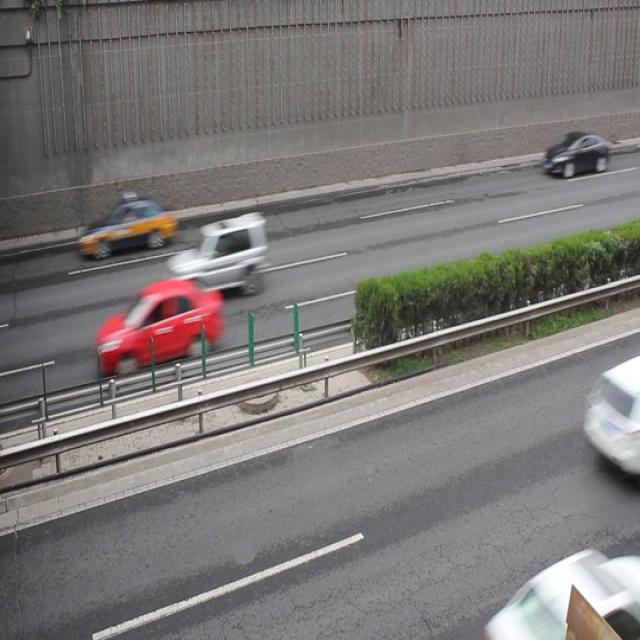car: (494, 543, 640, 640), (93, 280, 222, 373), (168, 209, 266, 295), (78, 196, 176, 258), (540, 128, 610, 178)
